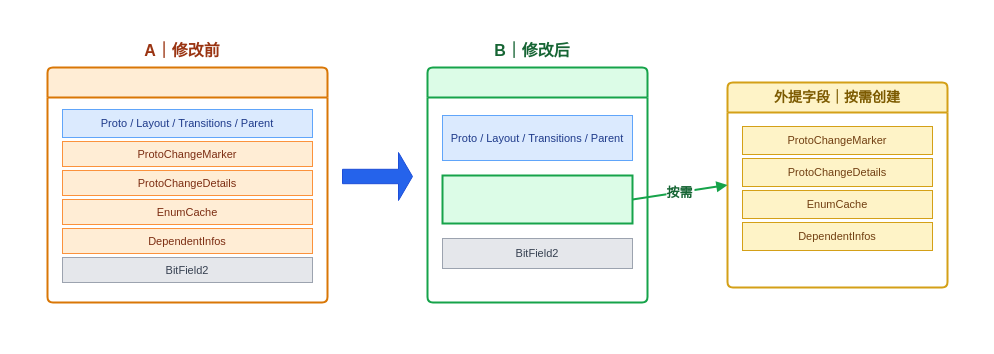
Some shapes in this 994 by 354 pixel diagram are drawn without their labels. Each missing label, with the box of its shape:
AuxData: (441, 174, 633, 224)
JSHClass｜64 B: (426, 66, 648, 303)
JSHClass｜88 B: (46, 66, 328, 303)
外提: (342, 152, 412, 200)
